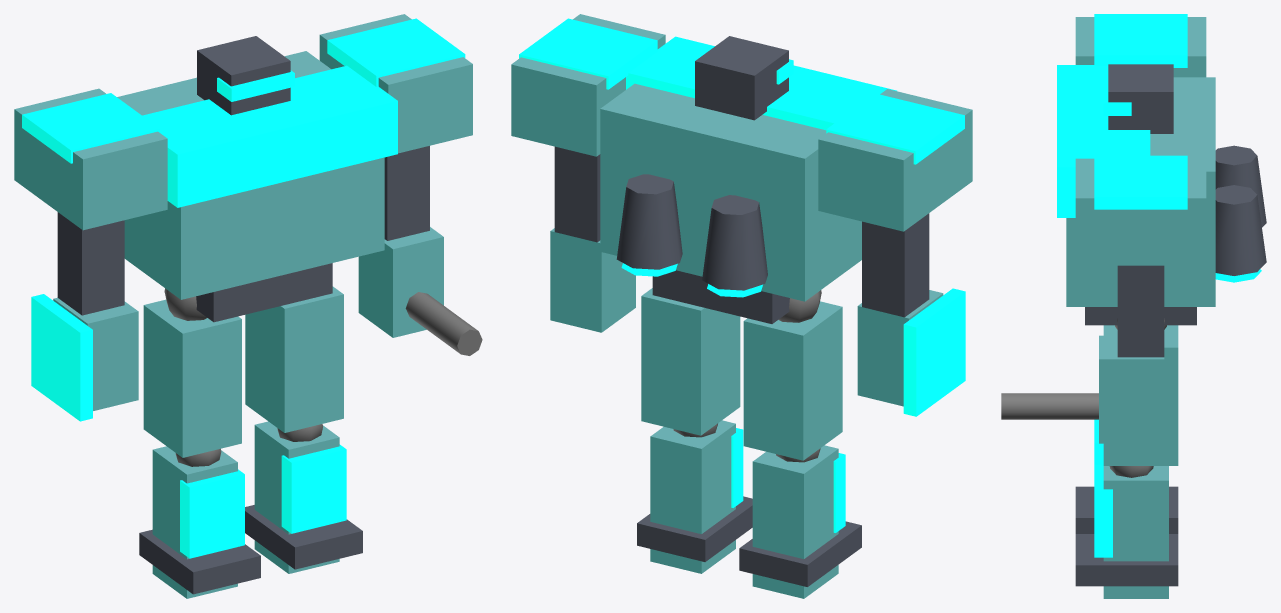
The model's file is titan_mech.glb.
3 renders of one model, left to right at view 1: azimuth 30°, elevation 25°; view 2: azimuth 150°, elevation 25°; view 3: azimuth 270°, elevation 25°, orthographic. The views are drawn at different scales.
Visible parts, largest first — view 1: Torso, L_shoulder, L_thigh, R_shoulder, R_thigh, L_shin, R_shin, R_forearm, L_weapon, Head, L_upper_arm, L_forearm (+6 smaller); view 2: Torso, L_shoulder, R_shoulder, L_thigh, R_thigh, Jetpack, L_shin, R_shin, R_forearm, L_weapon, Head, L_upper_arm (+6 smaller); view 3: Torso, R_shoulder, R_shin, L_shoulder, Jetpack, R_forearm, Head, R_upper_arm, R_thigh, R_foot, R_weapon, L_foot (+2 smaller).
Part boxes in pixels (<box>): Torso: <box>117,51,397,299</box>; L_shoulder: <box>14,88,167,230</box>; L_thigh: <box>143,299,241,457</box>; R_shoulder: <box>319,14,472,153</box>; R_thigh: <box>245,286,343,432</box>; L_shin: <box>152,446,244,598</box>; R_shin: <box>254,421,346,573</box>; R_forearm: <box>358,227,443,337</box>; L_weapon: <box>31,294,92,421</box>; Head: <box>197,36,294,115</box>; L_upper_arm: <box>57,212,124,315</box>; L_forearm: <box>53,297,138,410</box>; Torso: <box>600,36,896,301</box>; L_shoulder: <box>818,89,972,231</box>; R_shoulder: <box>511,14,665,156</box>; L_thigh: <box>743,301,842,460</box>; R_thigh: <box>641,288,740,435</box>; Jetpack: <box>616,174,767,297</box>; L_shin: <box>752,445,845,598</box>; R_shin: <box>650,420,743,573</box>; R_forearm: <box>550,228,635,332</box>; L_weapon: <box>903,288,965,416</box>; Head: <box>695,36,793,120</box>; L_upper_arm: <box>862,213,929,317</box>; Torso: <box>1057,65,1215,306</box>; R_shoulder: <box>1075,155,1206,265</box>; R_shin: <box>1094,464,1168,598</box>; L_shoulder: <box>1075,14,1206,77</box>; Jetpack: <box>1215,145,1266,282</box>; R_forearm: <box>1099,335,1164,443</box>; Head: <box>1103,64,1173,133</box>; R_upper_arm: <box>1117,265,1164,357</box>; R_thigh: <box>1103,325,1178,465</box>; R_foot: <box>1075,534,1178,586</box>; R_weapon: <box>1001,393,1098,419</box>; L_foot: <box>1075,486,1178,533</box>.
Bounding box in the file's own units: 4.65 × 5.75 × 2.85.
